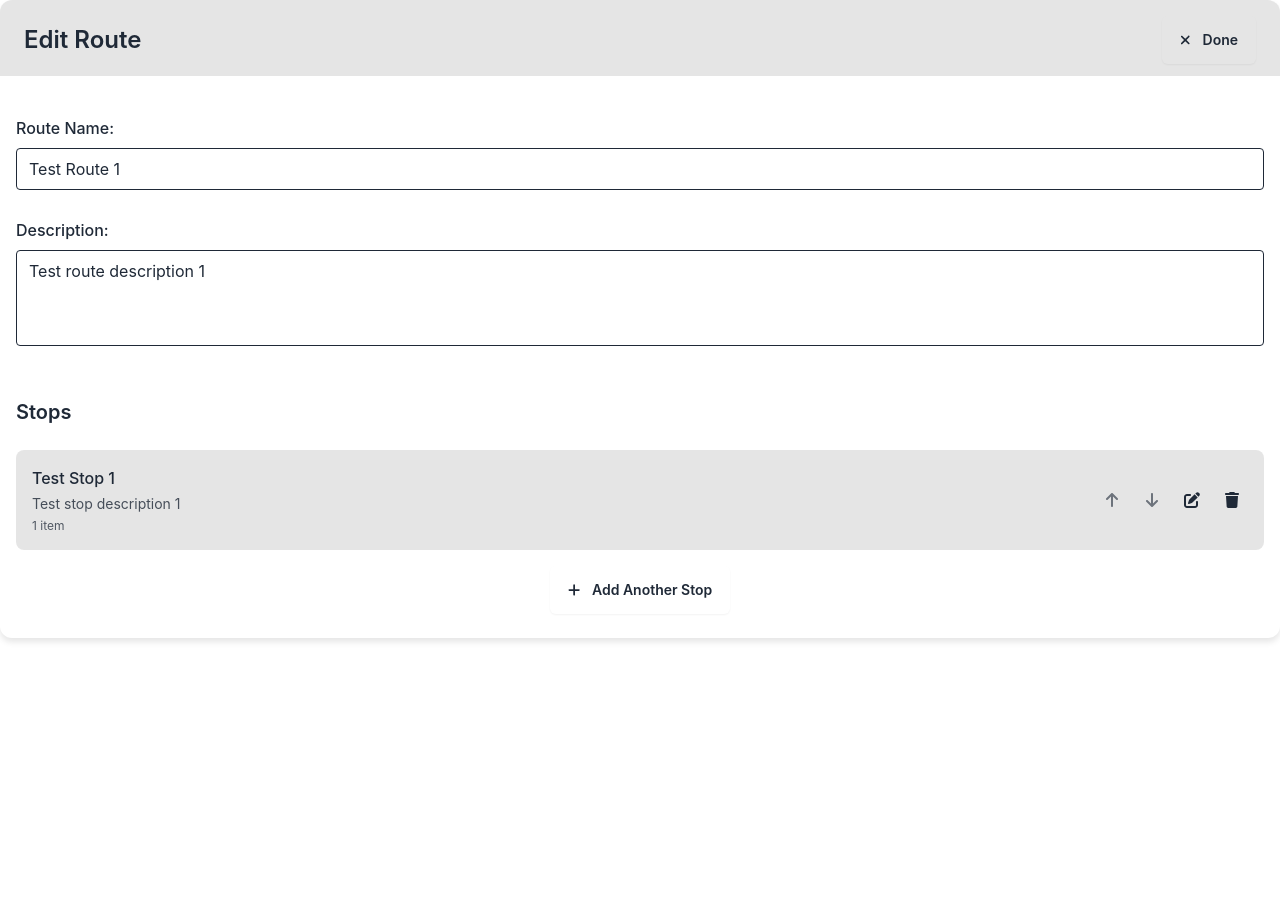
Scenario: RouteEditor › should validate required fields before saving
This screenshot has width=1280, height=900.
// Clear the route name
Clear the field labelled "Route Name:": (640, 169) 16,148 -> 1264,190
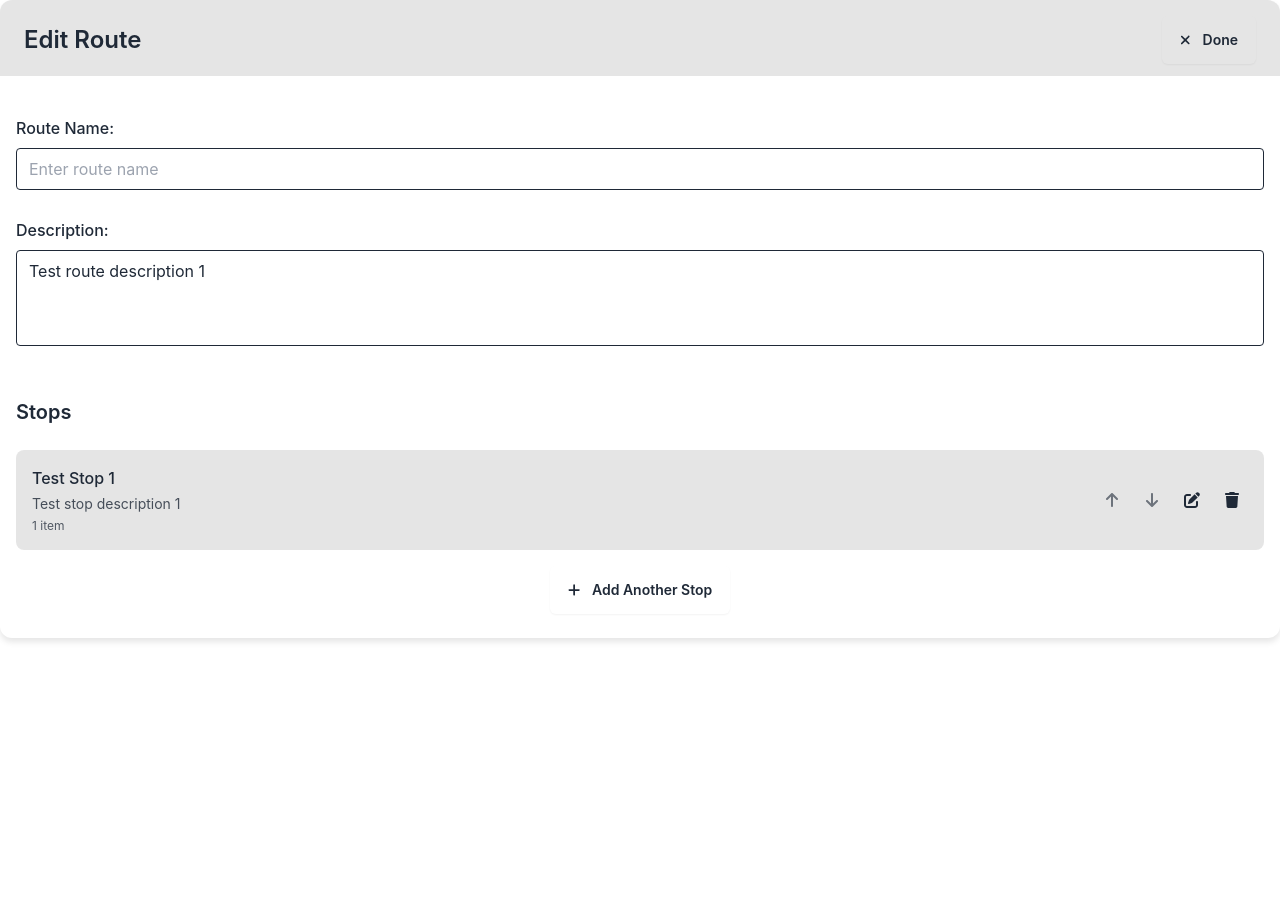
// Trigger validation by blurring the field
Leave the field labelled "Route Name:", box 16,148 -> 1264,190
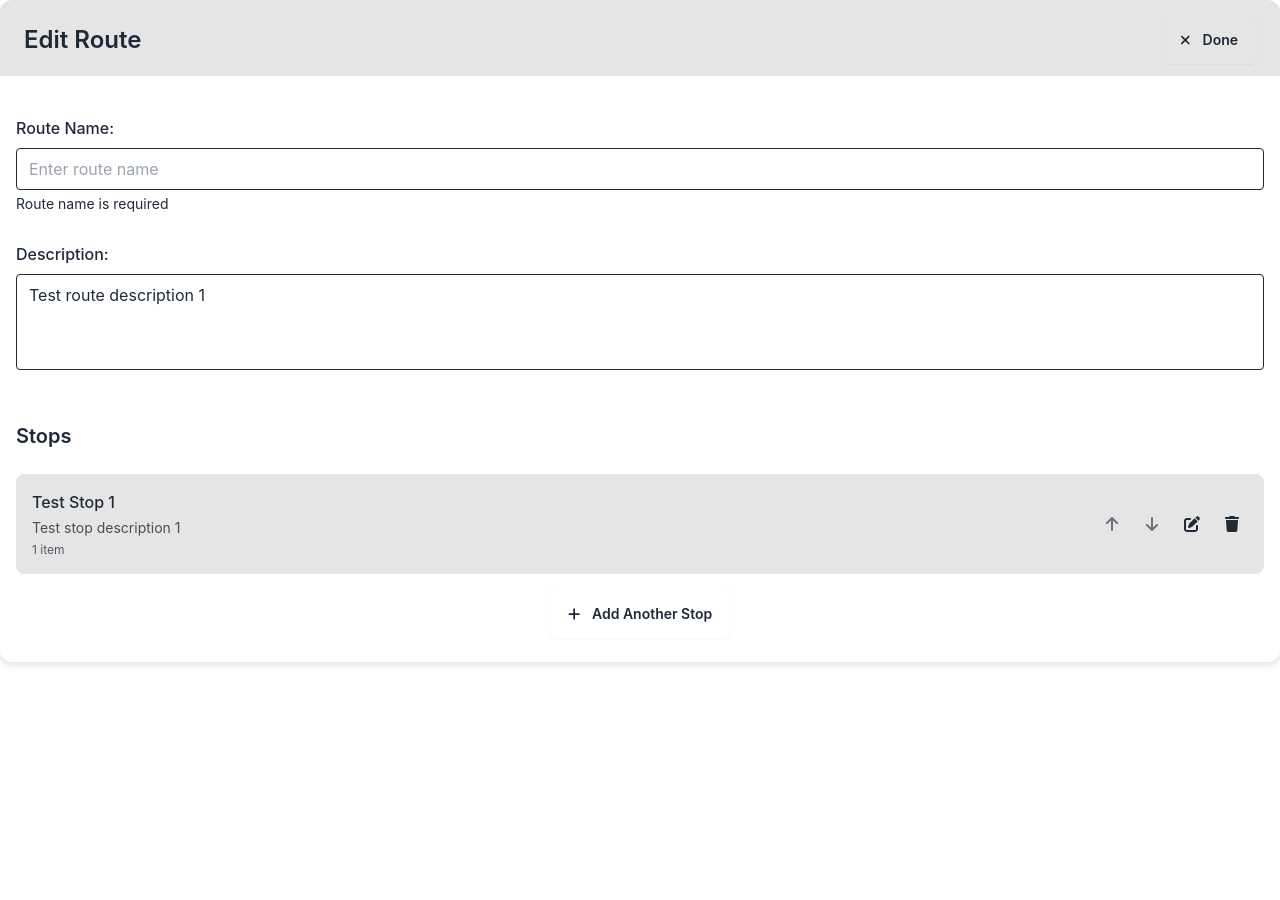
Expected: the text "Route name is required" is shown, 16,195 -> 168,212
